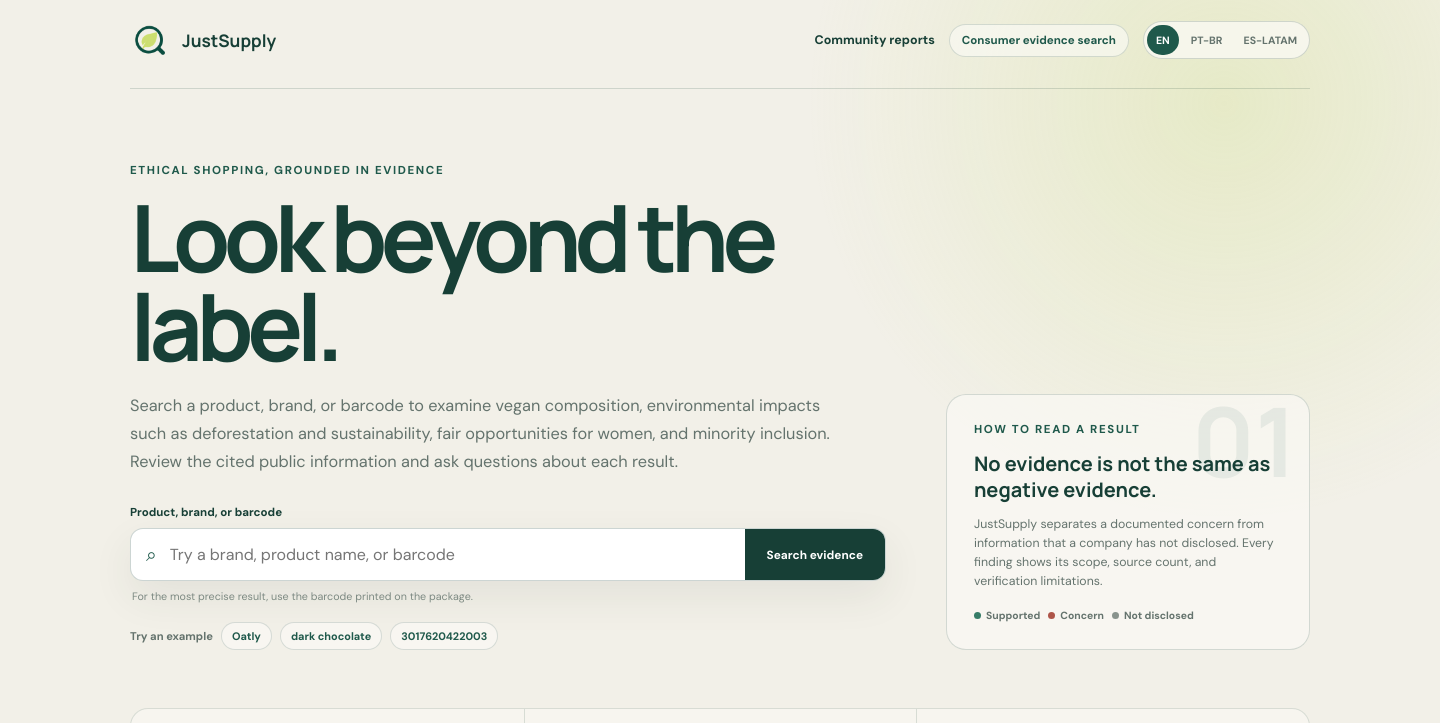
Scenario: consumer evidence experience › researches public sources and answers a grounded question
This screenshot has width=1440, height=723.
Type "7891000100103" into the field labelled "Product, brand, or barcode" at coordinates (451, 555), box [157, 529, 745, 580]
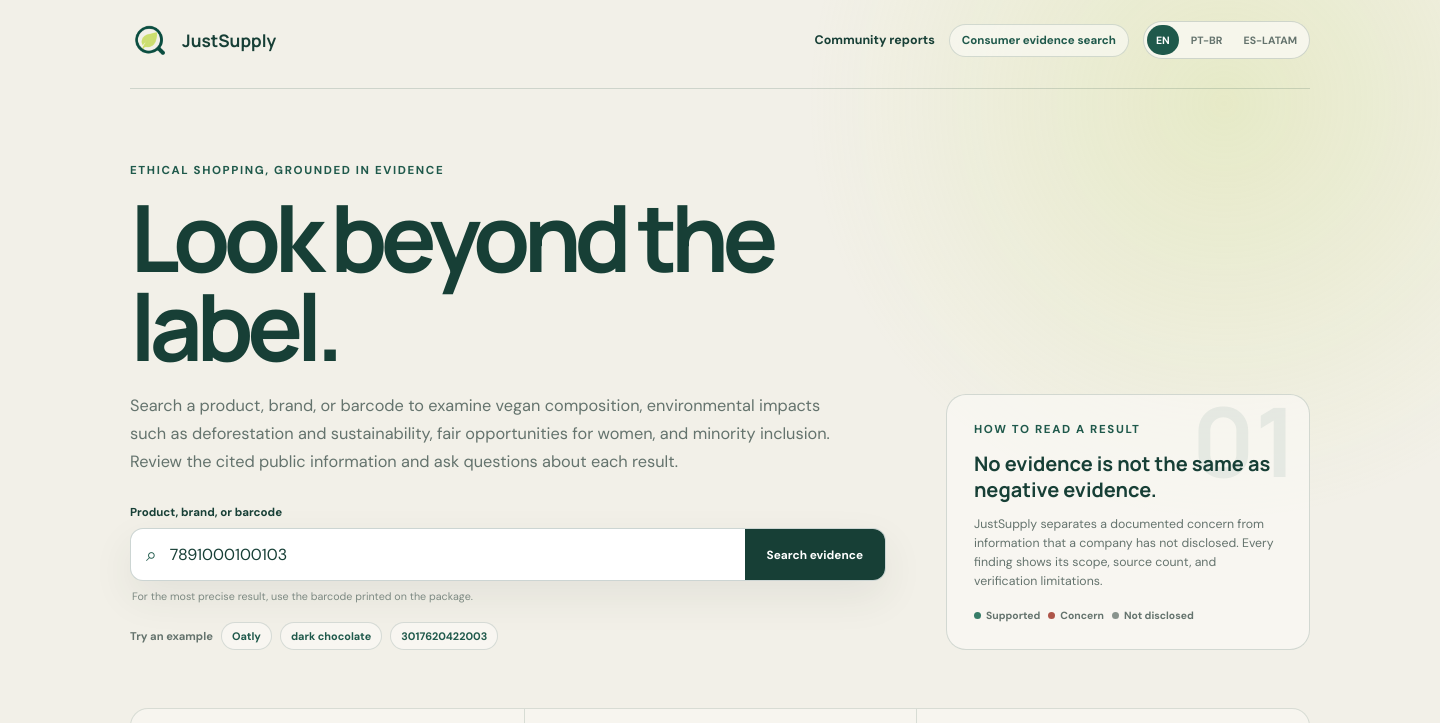
Click the button "Search evidence" at coordinates (815, 555), box [744, 529, 885, 580]
(page scrolled)
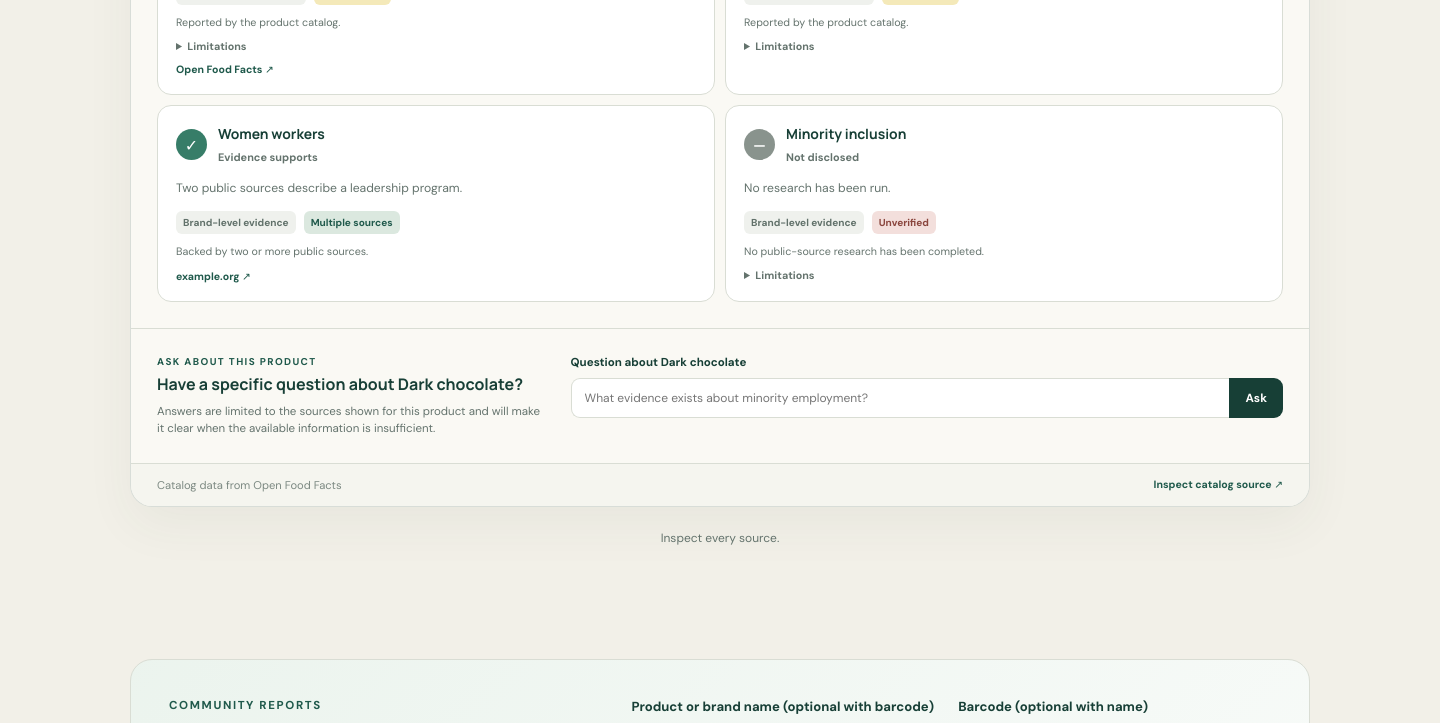
Type "What evidence exists about women workers?" into the field labelled "Question about Dark chocolate" at coordinates (900, 398), box [571, 378, 1230, 418]
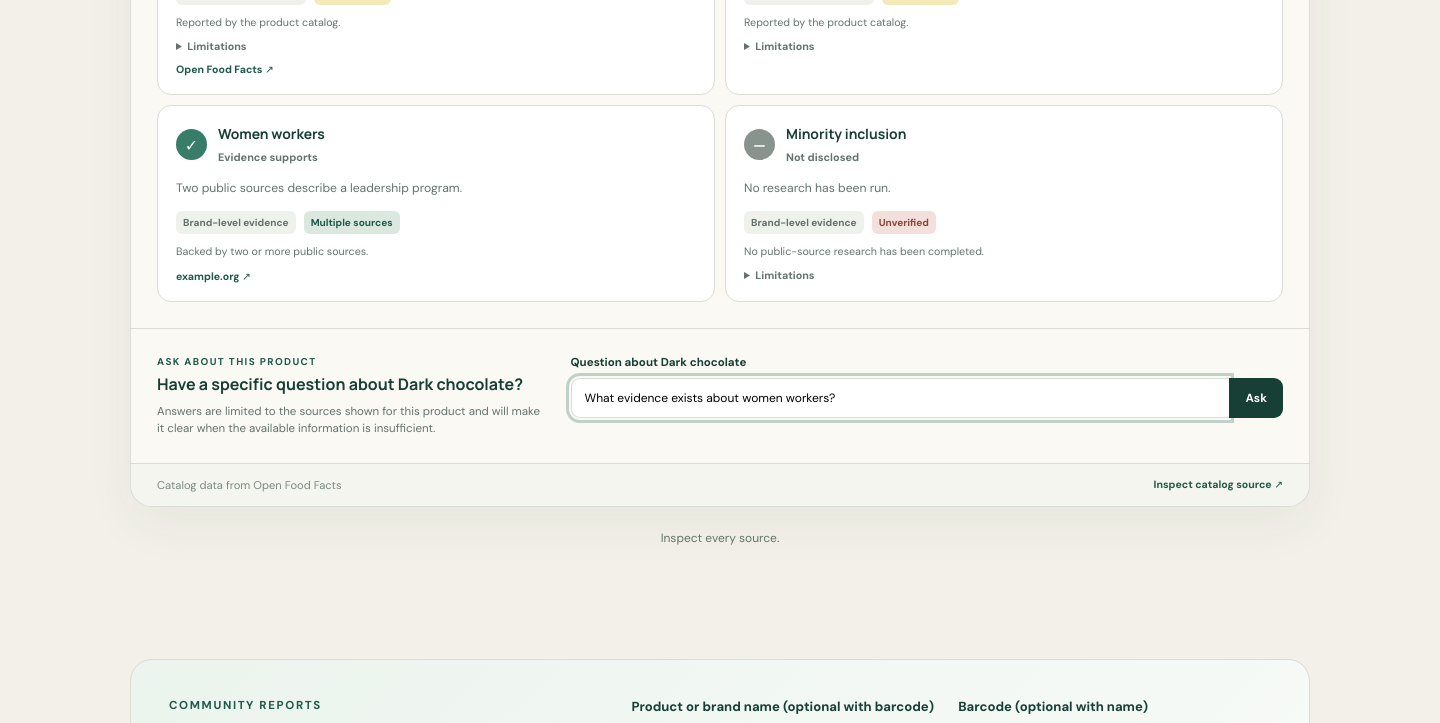
Click the button "Ask" at coordinates (1256, 398), box [1230, 378, 1283, 418]
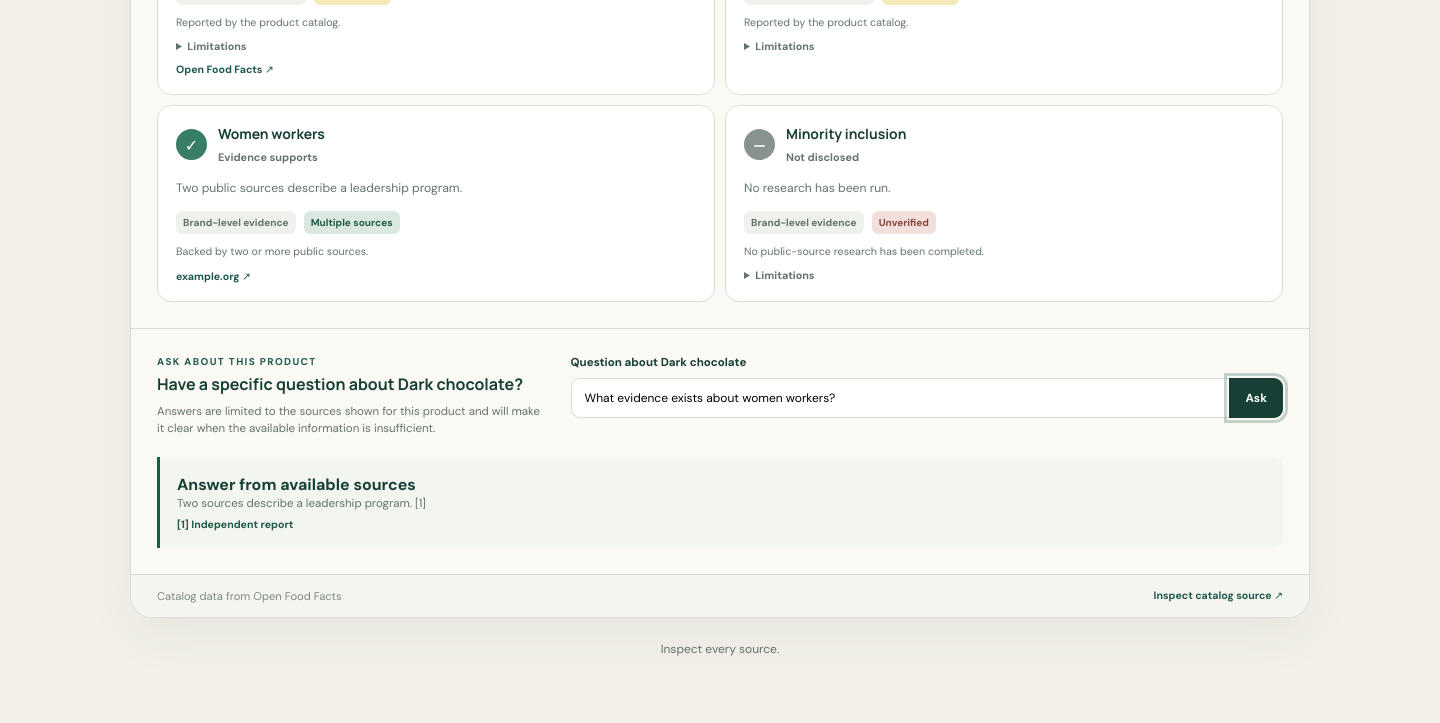
Expected: the text "Two sources describe a leadership program. [1]" is shown, [177, 496, 426, 511]
Expected: the link "[1] Independent report" is shown, [177, 518, 293, 531]
